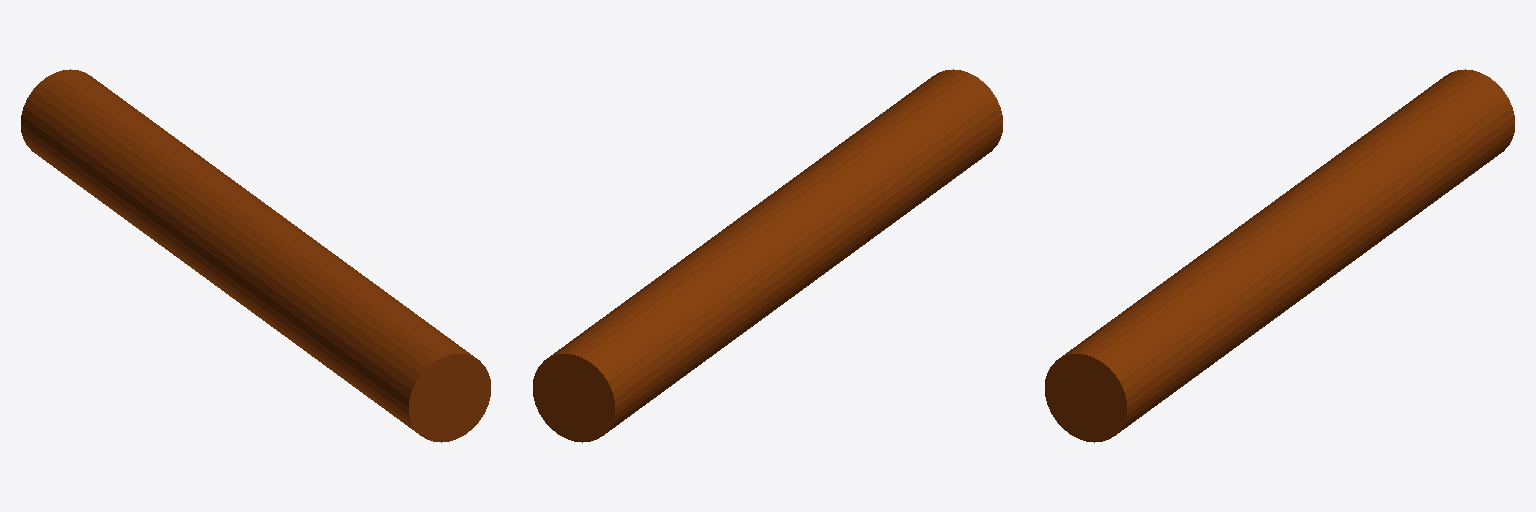
robot.urdf — cylinder:
<?xml version="1.0" ?>
<!-- =================================================================================== -->
<!-- |    This document was autogenerated by xacro from cylinder.xacro                 | -->
<!-- |    EDITING THIS FILE BY HAND IS NOT RECOMMENDED                                 | -->
<!-- =================================================================================== -->
<robot name="cylinder">
  <link name="world"/>
  <link name="base">
    <visual>
      <origin rpy="1.57079633 0 0" xyz="0 0 0"/>
      <geometry>
        <cylinder length="7.07106781185" radius="0.435"/>
      </geometry>
      <material name="cylinder_material">
        <color rgba="0.545 0.271 0.075 1.0"/>
        <texture filename="../textures/tree_bark.jpg"/>
      </material>
    </visual>
    <collision>
      <origin rpy="1.57079633 0 0" xyz="0 0 0"/>
      <geometry>
        <cylinder length="7.07106781185" radius="0.435"/>
      </geometry>
    </collision>
    <inertial>
      <origin rpy="0 0 0" xyz="0 0 0"/>
      <mass value="1"/>
      <inertia ixx="4.213972916648428" ixy="0.0" ixz="0.0" iyy="4.213972916648428" iyz="0.0" izz="24.999999999890573"/>
    </inertial>
  </link>
  <joint name="base_joint" type="fixed">
    <parent link="world"/>
    <child link="base"/>
    <origin rpy="0 0 0" xyz="0.0 0.0 0.0"/>
  </joint>
</robot>

--- What the picture shows (computed from the rendered views, not written in the file) ---
The picture shows the robot from 3 angles, left to right: view 1: azimuth 30°, elevation 25°; view 2: azimuth 150°, elevation 25°; view 3: azimuth 330°, elevation 25°; orthographic projection.
Robot: cylinder — 2 links, 1 joints (1 fixed); root link world; default pose: all joints at 0.
Links seen in each view (by area): view 1: base; view 2: base; view 3: base.
Link boxes in pixels (x1,y1,x2,y2): base: [21, 69, 490, 442]; base: [533, 69, 1002, 442]; base: [1045, 69, 1514, 442].
Size in the robot's own frame: 0.87 by 7.07 by 0.87 metres.
Geometry: primitives only (box / cylinder / sphere), no mesh files.
